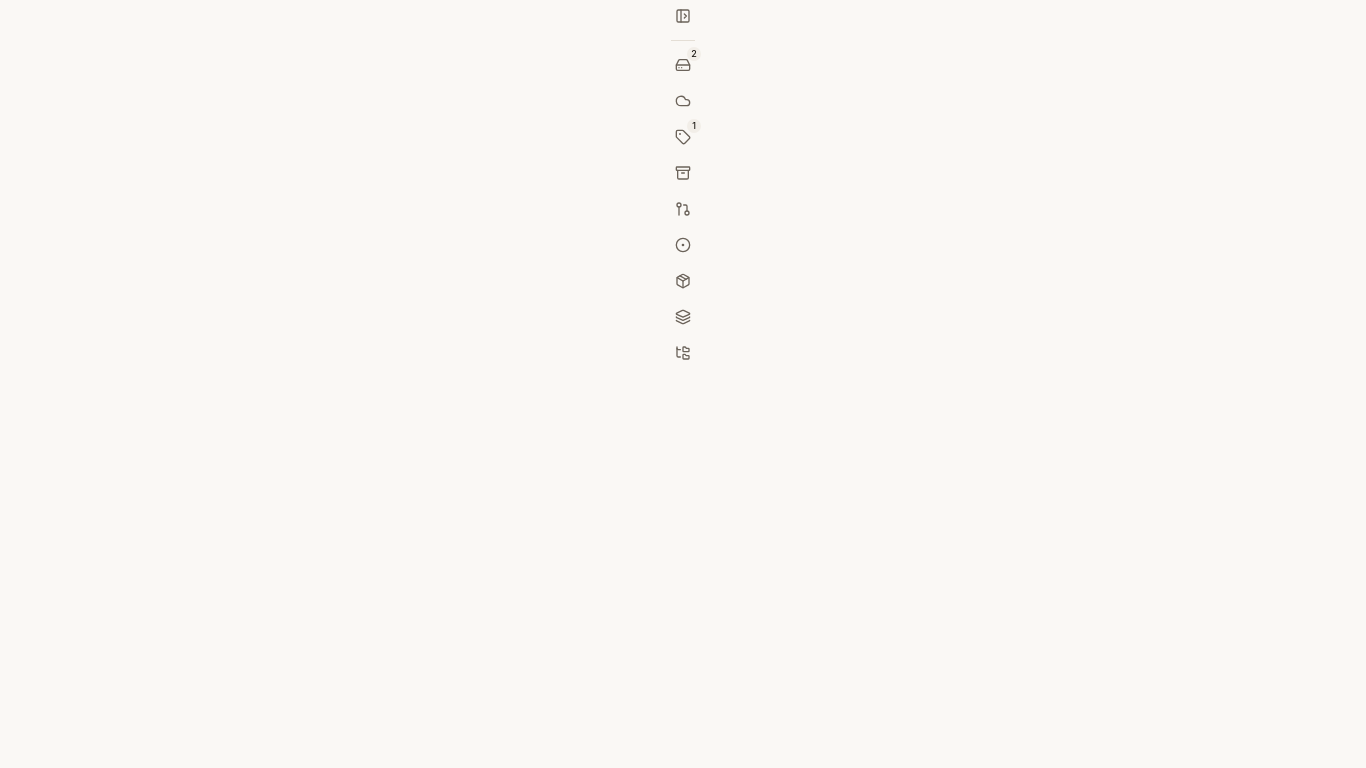
Test: sidebar rail › shows one icon per section and opens its list in a popover
Expected: the text "feature/login" is not shown
Click the button named "Local (2)": click(683, 65) [667, 49, 699, 81]
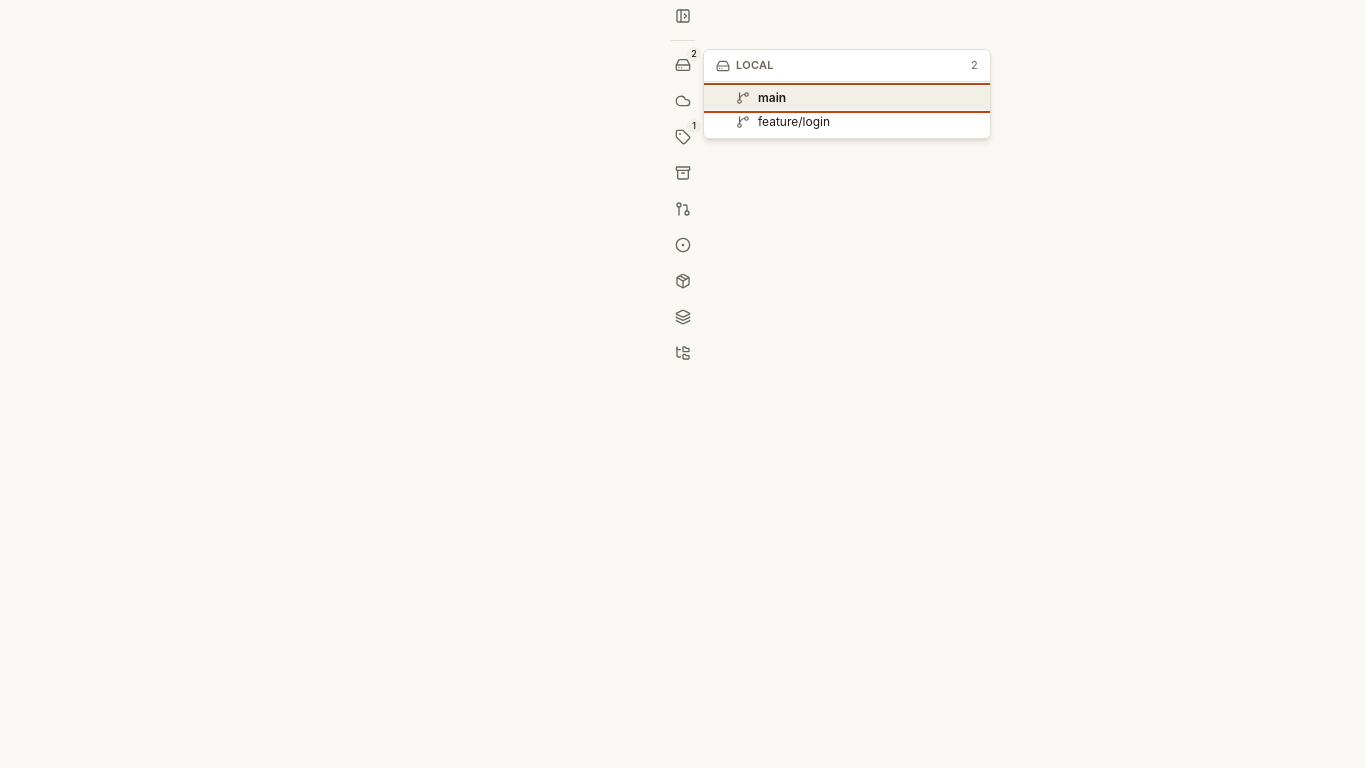
Result: the text "feature/login" is shown at [758, 114, 830, 129]
